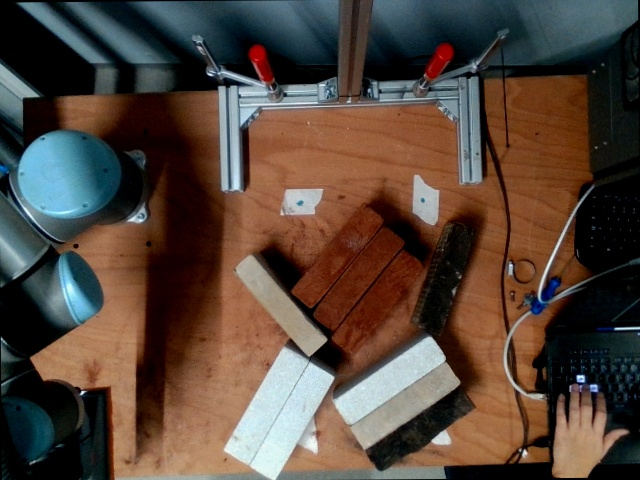brick-side: (251, 366, 331, 478), (352, 364, 459, 446), (337, 340, 443, 422), (367, 389, 473, 470), (295, 207, 381, 305), (334, 251, 420, 349), (226, 352, 304, 460), (315, 229, 401, 326), (235, 259, 323, 353), (422, 225, 473, 334)
